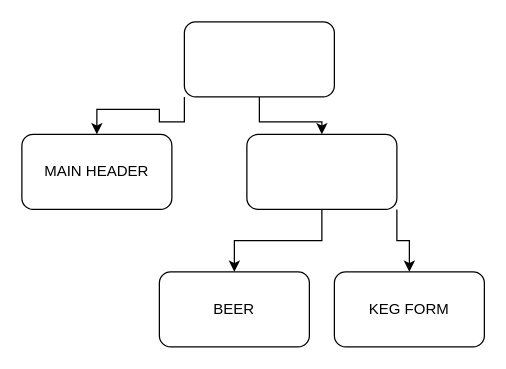
Some shapes in this 506 by 369 pixel diagram are drawn without their labels. The shapes that lost their labels are listed below. From the top down, each one's box as (x1, y1, x2, y2) in pixels, then its label:
(183, 21, 334, 97): APP
(246, 133, 397, 209): KEG CONTROL
